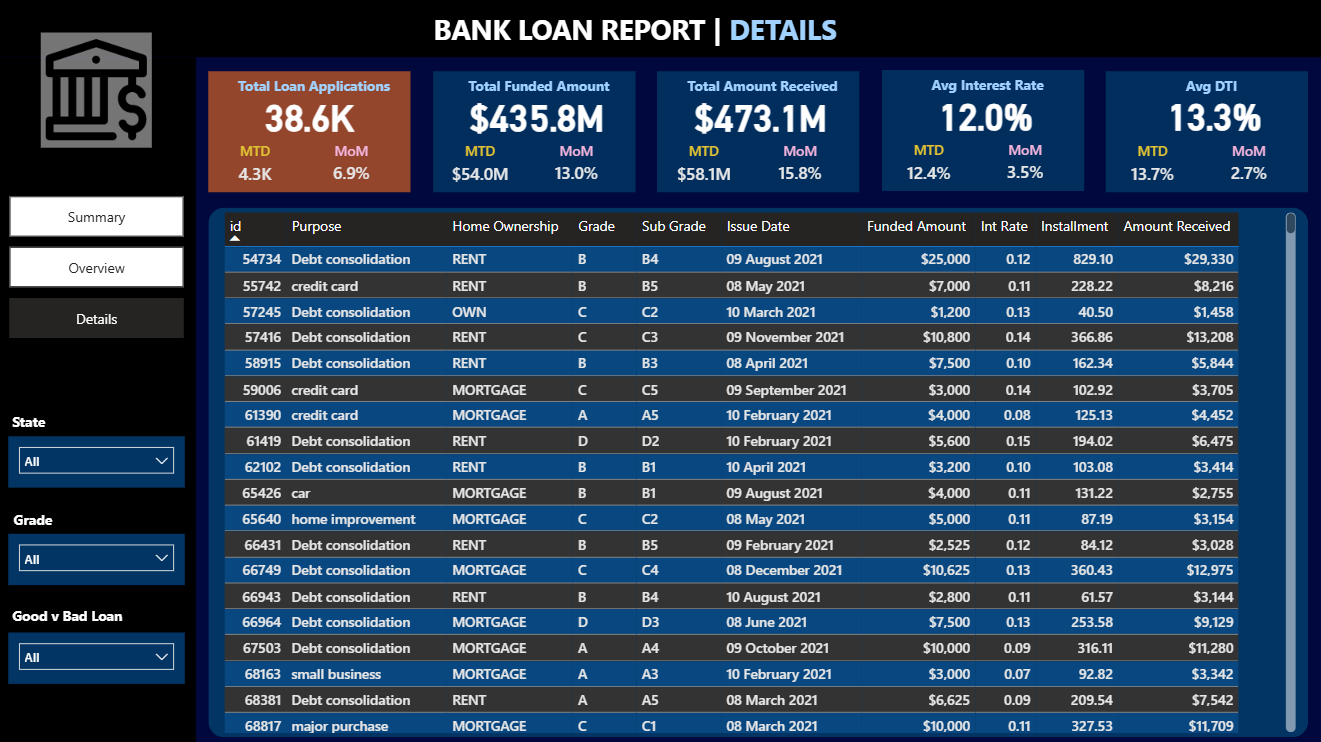

Layout of this report page (visuals, bound fields, positions):
{"tool":"powerbi","page":{"name":"Details","canvas":[1280,720],"ordinal":2},"visuals":[{"type":"shape","box":[853.6,67.6,195.4,117],"z":0,"group":"g4"},{"type":"shape","box":[203.9,68.8,195.4,117],"z":0,"group":"g1"},{"type":"shape","box":[420.4,68.8,195.4,117],"z":0,"group":"g2"},{"type":"shape","box":[637,68.8,195.4,117],"z":0,"group":"g3"},{"type":"shape","box":[1070.1,68.8,195.4,117],"z":0,"group":"g5"},{"type":"shape","box":[203.9,200.3,1061.7,511.5],"z":0},{"type":"shape","box":[0,0,1280,55.5],"z":1000},{"type":"card","fields":{"Values":["bank_loan_data.Avg Interest Rate"]},"box":[881.5,86,144.8,49.5],"z":1000,"group":"g4"},{"type":"card","fields":{"Values":["bank_loan_data.Avg DTI"]},"box":[1102.5,86,144.8,49.5],"z":1000,"group":"g5"},{"type":"card","fields":{"Values":["bank_loan_data.Total Loan Applications"]},"box":[240.1,86.9,123.1,49.5],"z":1000,"group":"g1"},{"type":"card","fields":{"Values":["bank_loan_data.Total Funded Amount"]},"box":[448.3,87.2,144.8,49.5],"z":1000,"group":"g2"},{"type":"card","fields":{"Values":["bank_loan_data.Total Amount Received"]},"box":[664.9,87.2,144.8,49.5],"z":1000,"group":"g3"},{"type":"shape","box":[0,55.5,192,664.7],"z":2000},{"type":"textbox","box":[870.5,67.6,170.1,32.6],"z":2000,"group":"g4"},{"type":"textbox","box":[220.8,68.8,170.1,32.6],"z":2000,"group":"g1"},{"type":"textbox","box":[437.3,68.8,170.1,32.6],"z":2000,"group":"g2"},{"type":"textbox","box":[653.9,68.8,170.1,32.6],"z":2000,"group":"g3"},{"type":"textbox","box":[1087,68.8,170.1,32.6],"z":2000,"group":"g5"},{"type":"textbox","box":[416.2,4.8,448.8,47.1],"z":3000},{"type":"card","title":"MTD","fields":{"Values":["bank_loan_data.MTD Avg Int Rate"]},"box":[853.6,135.2,90.5,49.5],"z":3000,"group":"g4"},{"type":"card","title":"MTD","fields":{"Values":["bank_loan_data.MTD Loan Applications"]},"box":[203.9,136.4,90.5,49.5],"z":3000,"group":"g1"},{"type":"card","title":"MTD","fields":{"Values":["bank_loan_data.MTD Funded Amount"]},"box":[420.4,136.4,90.5,49.5],"z":3000,"group":"g2"},{"type":"card","title":"MTD","fields":{"Values":["bank_loan_data.MTD Total Amount Received"]},"box":[637,136.4,90.5,49.5],"z":3000,"group":"g3"},{"type":"card","title":"MTD","fields":{"Values":["bank_loan_data.MTD Avg DTI"]},"box":[1070.1,136.4,90.5,49.5],"z":3000,"group":"g5"},{"type":"group","id":"g1","title":"Group 1","box":[203.9,68.8,195.4,117],"z":4000},{"type":"card","title":"MoM","fields":{"Values":["bank_loan_data.MoM Avg Int Rate"]},"box":[951.3,135.2,80.8,48.3],"z":4000,"group":"g4"},{"type":"card","title":"MoM","fields":{"Values":["bank_loan_data.MoM Loan Applications"]},"box":[301.6,136.4,80.8,48.3],"z":4000,"group":"g1"},{"type":"card","title":"MoM","fields":{"Values":["bank_loan_data.MoM Total Funded Amount"]},"box":[518.1,136.4,80.8,48.3],"z":4000,"group":"g2"},{"type":"card","title":"MoM","fields":{"Values":["bank_loan_data.MoM Total Amount Received"]},"box":[734.7,136.4,80.8,48.3],"z":4000,"group":"g3"},{"type":"card","title":"MoM","fields":{"Values":["bank_loan_data.MoM Avg DTI"]},"box":[1167.8,136.4,80.8,48.3],"z":4000,"group":"g5"},{"type":"group","id":"g2","title":"Group 1","box":[420.4,68.8,195.4,117],"z":5000},{"type":"group","id":"g3","title":"Group 1","box":[637,68.8,195.4,117],"z":6000},{"type":"group","id":"g4","title":"Group 1","box":[853.6,67.6,195.4,117],"z":7000},{"type":"group","id":"g5","title":"Group 1","box":[1070.1,68.8,195.4,117],"z":8000},{"type":"slicer","fields":{"Values":["bank_loan_data.address_state"]},"box":[10.9,421.2,170.1,49.5],"z":9000},{"type":"textbox","box":[9.7,393.1,55.5,30.2],"z":10000},{"type":"slicer","fields":{"Values":["bank_loan_data.grade"]},"box":[10.9,515.7,170.1,49.5],"z":11000},{"type":"textbox","box":[10.9,487.2,56.7,30.2],"z":12000},{"type":"textbox","box":[9.7,580.1,139.9,30.2],"z":13000},{"type":"slicer","fields":{"Values":["bank_loan_data.Good v Bad Loan"]},"box":[10.9,610.3,170.1,49.5],"z":14000},{"type":"tableEx","fields":{"Values":["bank_loan_data.id","bank_loan_data.purpose","bank_loan_data.home_ownership","bank_loan_data.grade","bank_loan_data.sub_grade","bank_loan_data.issue_date","bank_loan_data.Total Funded Amount","Sum(bank_loan_data.int_rate)","Sum(bank_loan_data.installment)","bank_loan_data.Total Amount Received"]},"box":[213.5,200.3,1044.8,511.5],"z":16001},{"type":"pageNavigator","box":[12.1,189.4,168.9,137.5],"z":16002},{"type":"image","box":[42.2,31.4,107.4,111],"z":16003}]}

Visuals, with their boxes in screenshot pixels (x1, y1, x2, y2), scaled from the page's 1280x720 canvas onto the 1321x742 screenshot:
shape: [x1=881, y1=70, x2=1083, y2=190]
shape: [x1=210, y1=71, x2=412, y2=191]
shape: [x1=434, y1=71, x2=636, y2=191]
shape: [x1=657, y1=71, x2=859, y2=191]
shape: [x1=1104, y1=71, x2=1306, y2=191]
shape: [x1=210, y1=206, x2=1306, y2=734]
shape: [x1=0, y1=0, x2=1320, y2=57]
card - bank_loan_data.Avg Interest Rate: [x1=910, y1=89, x2=1059, y2=140]
card - bank_loan_data.Avg DTI: [x1=1138, y1=89, x2=1287, y2=140]
card - bank_loan_data.Total Loan Applications: [x1=248, y1=90, x2=375, y2=141]
card - bank_loan_data.Total Funded Amount: [x1=463, y1=90, x2=612, y2=141]
card - bank_loan_data.Total Amount Received: [x1=686, y1=90, x2=836, y2=141]
shape: [x1=0, y1=57, x2=198, y2=741]
textbox: [x1=898, y1=70, x2=1074, y2=103]
textbox: [x1=228, y1=71, x2=403, y2=104]
textbox: [x1=451, y1=71, x2=627, y2=104]
textbox: [x1=675, y1=71, x2=850, y2=104]
textbox: [x1=1122, y1=71, x2=1297, y2=104]
textbox: [x1=430, y1=5, x2=893, y2=53]
"MTD" card: [x1=881, y1=139, x2=974, y2=190]
"MTD" card: [x1=210, y1=141, x2=304, y2=192]
"MTD" card: [x1=434, y1=141, x2=527, y2=192]
"MTD" card: [x1=657, y1=141, x2=751, y2=192]
"MTD" card: [x1=1104, y1=141, x2=1198, y2=192]
"Group 1" group: [x1=210, y1=71, x2=412, y2=191]
"MoM" card: [x1=982, y1=139, x2=1065, y2=189]
"MoM" card: [x1=311, y1=141, x2=395, y2=190]
"MoM" card: [x1=535, y1=141, x2=618, y2=190]
"MoM" card: [x1=758, y1=141, x2=842, y2=190]
"MoM" card: [x1=1205, y1=141, x2=1289, y2=190]
"Group 1" group: [x1=434, y1=71, x2=636, y2=191]
"Group 1" group: [x1=657, y1=71, x2=859, y2=191]
"Group 1" group: [x1=881, y1=70, x2=1083, y2=190]
"Group 1" group: [x1=1104, y1=71, x2=1306, y2=191]
slicer - bank_loan_data.address_state: [x1=11, y1=434, x2=187, y2=485]
textbox: [x1=10, y1=405, x2=67, y2=436]
slicer - bank_loan_data.grade: [x1=11, y1=531, x2=187, y2=582]
textbox: [x1=11, y1=502, x2=70, y2=533]
textbox: [x1=10, y1=598, x2=154, y2=629]
slicer - bank_loan_data.Good v Bad Loan: [x1=11, y1=629, x2=187, y2=680]
tableEx - bank_loan_data.id x bank_loan_data.purpose: [x1=220, y1=206, x2=1299, y2=734]
pageNavigator: [x1=12, y1=195, x2=187, y2=337]
image: [x1=44, y1=32, x2=154, y2=147]
